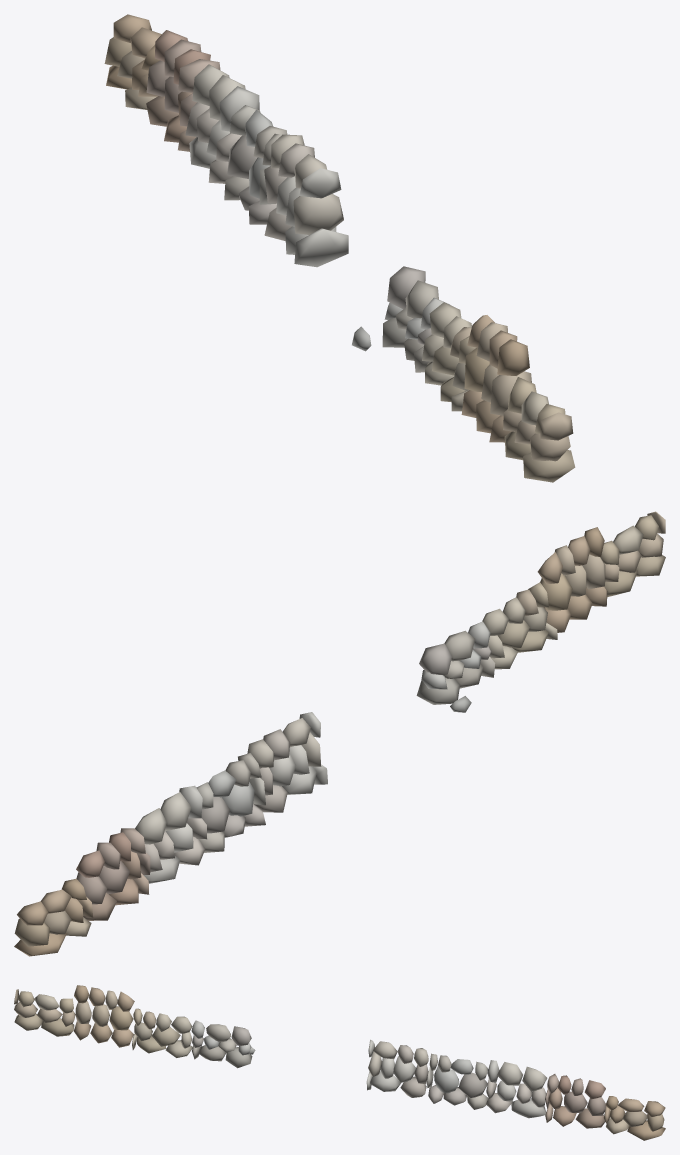
File: farm_-49_-37_near.glb
3 views of the same model, one above another, from view 1: azimuth 30°, elevation 25°; view 2: azimuth 150°, elevation 25°; view 3: azimuth 270°, elevation 25° (orthographic). The views are drawn at different scales.
Parts seen in each view (by area): view 1: geometry_0; view 2: geometry_0; view 3: geometry_0.
Part boxes in pixels (left/top/right/bottom): geometry_0: left=104, top=14, right=575, bottom=482; geometry_0: left=14, top=511, right=665, bottom=956; geometry_0: left=14, top=985, right=665, bottom=1140.
Size of the model in its own units: 3.63 by 2.81 by 15.93.
